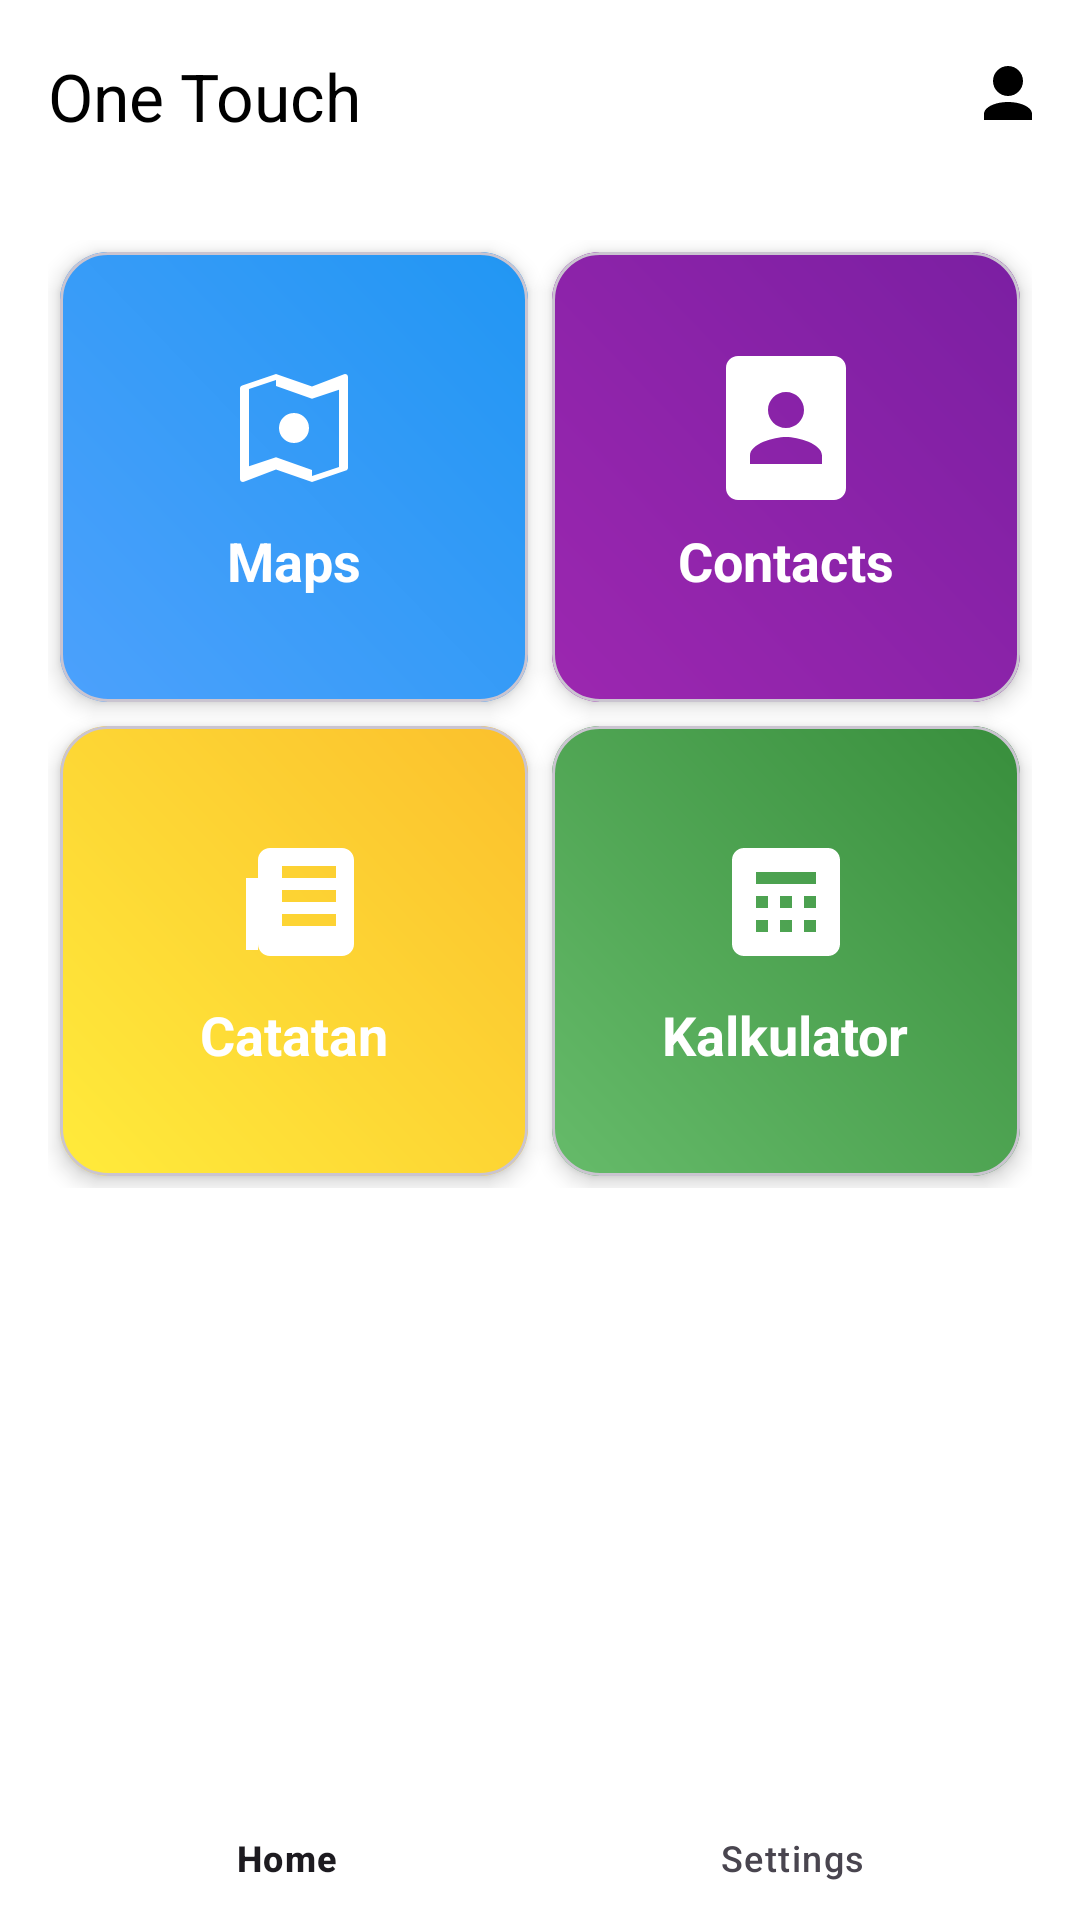

Icons on this 1080 × 1920 Android screen, each with its box as (left=x1, top=y1, right=x2, bottom=y2):
calculator: (left=732, top=848, right=840, bottom=956)
map: (left=240, top=374, right=348, bottom=482)
notes: (left=246, top=848, right=354, bottom=956)
